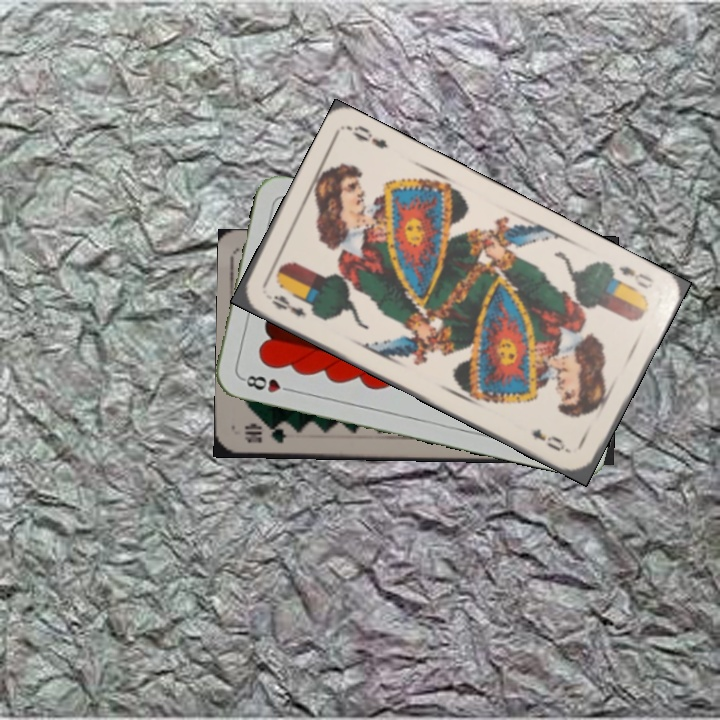EO: (615, 262, 656, 292), (267, 291, 309, 320)
G10: (241, 422, 289, 446)
H8: (238, 371, 297, 395)
